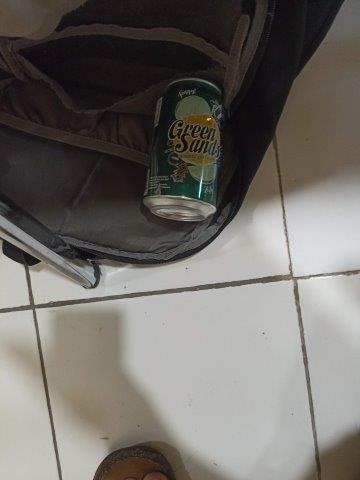kaleng: (143, 77, 226, 222)
